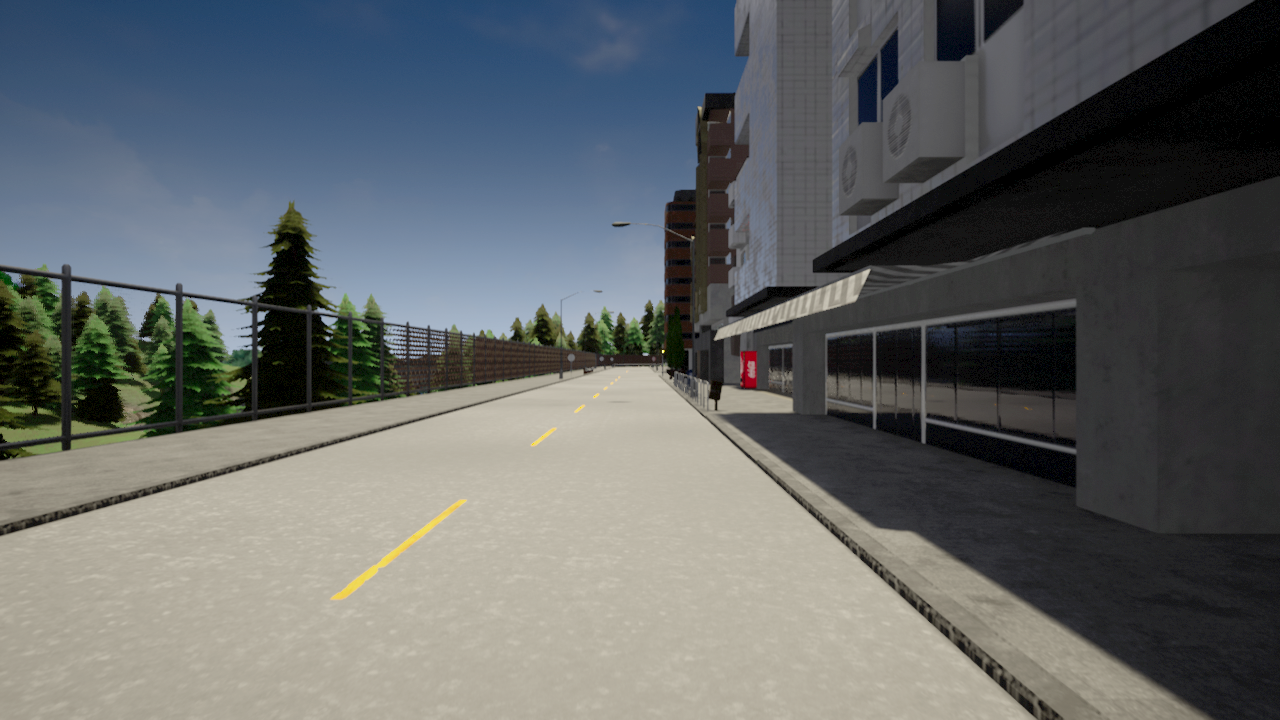yellow: (661, 346, 665, 357)
